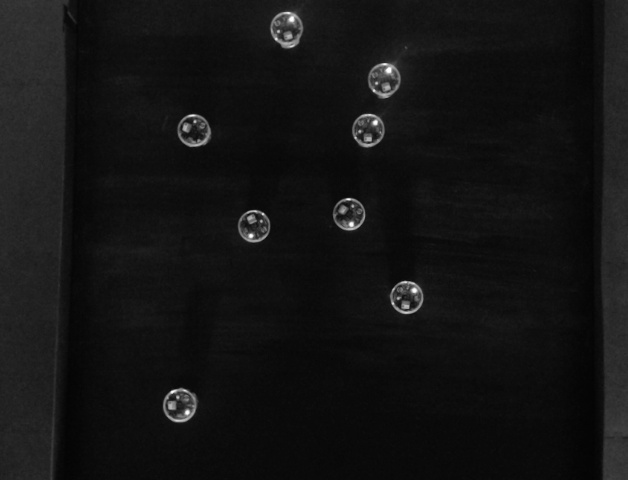epuck_2: (160, 389, 202, 425), (387, 278, 425, 316), (367, 63, 402, 101), (235, 209, 270, 244), (270, 13, 303, 48), (351, 114, 385, 147), (178, 116, 213, 148), (332, 199, 367, 230)
